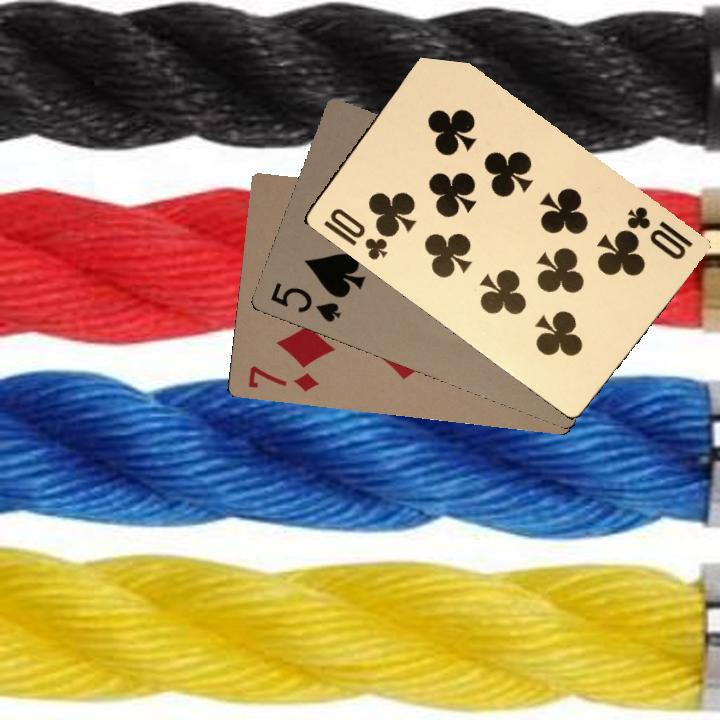10c: (622, 202, 696, 263), (319, 203, 394, 263)
5s: (266, 278, 343, 325)
7d: (244, 362, 321, 394)
